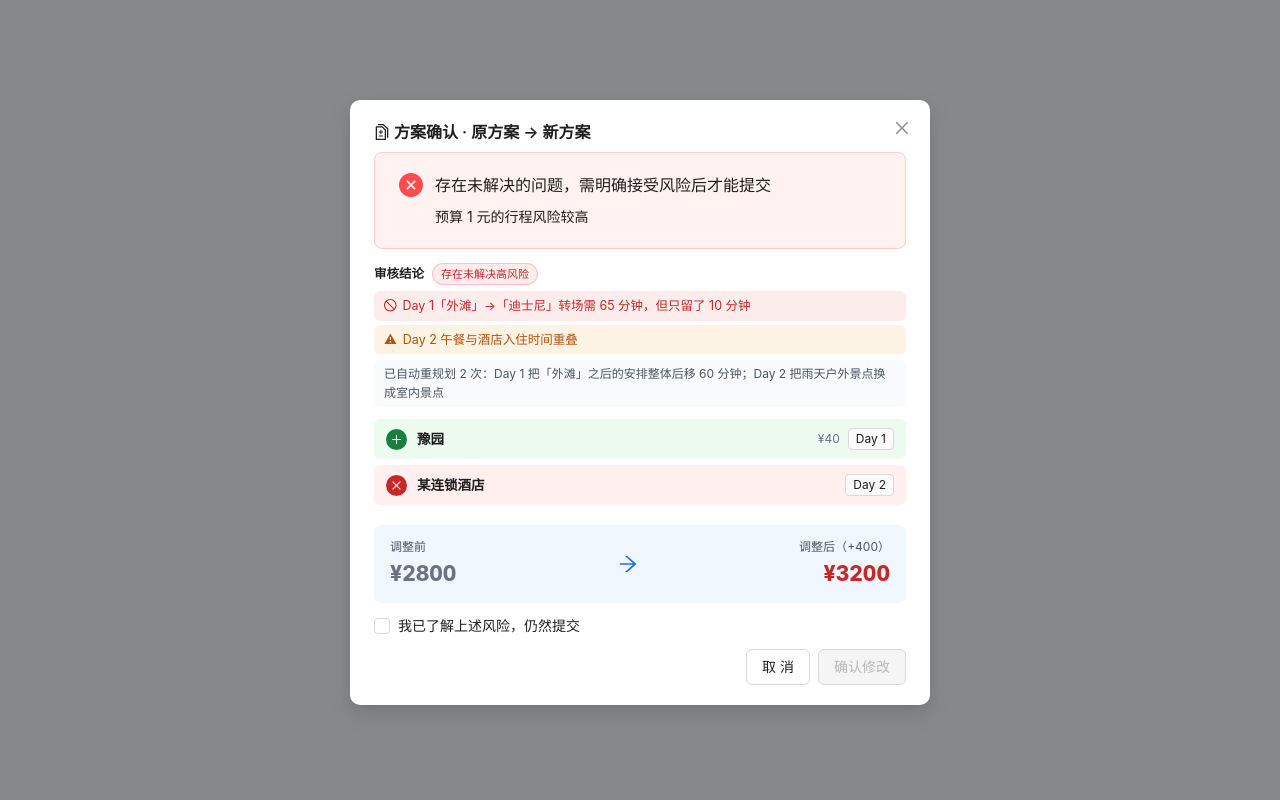
Test: PlanDiff · Batch 13 审核结论与风险接受 › requiresAcknowledgement：未勾选时确认按钮 disabled，勾选后才回调 onConfirm(true)
This screenshot has width=1280, height=800.
Later steps or results of the test are not shown.
Expected: the element with test id "plan-diff-dialog" is shown, [374, 152, 906, 637]
Click the button with test id "plan-diff-confirm". click: (862, 667)
box: [818, 649, 906, 685]
Click the checkbox with test id "plan-diff-ack". click: (481, 626)
box: [374, 615, 588, 637]
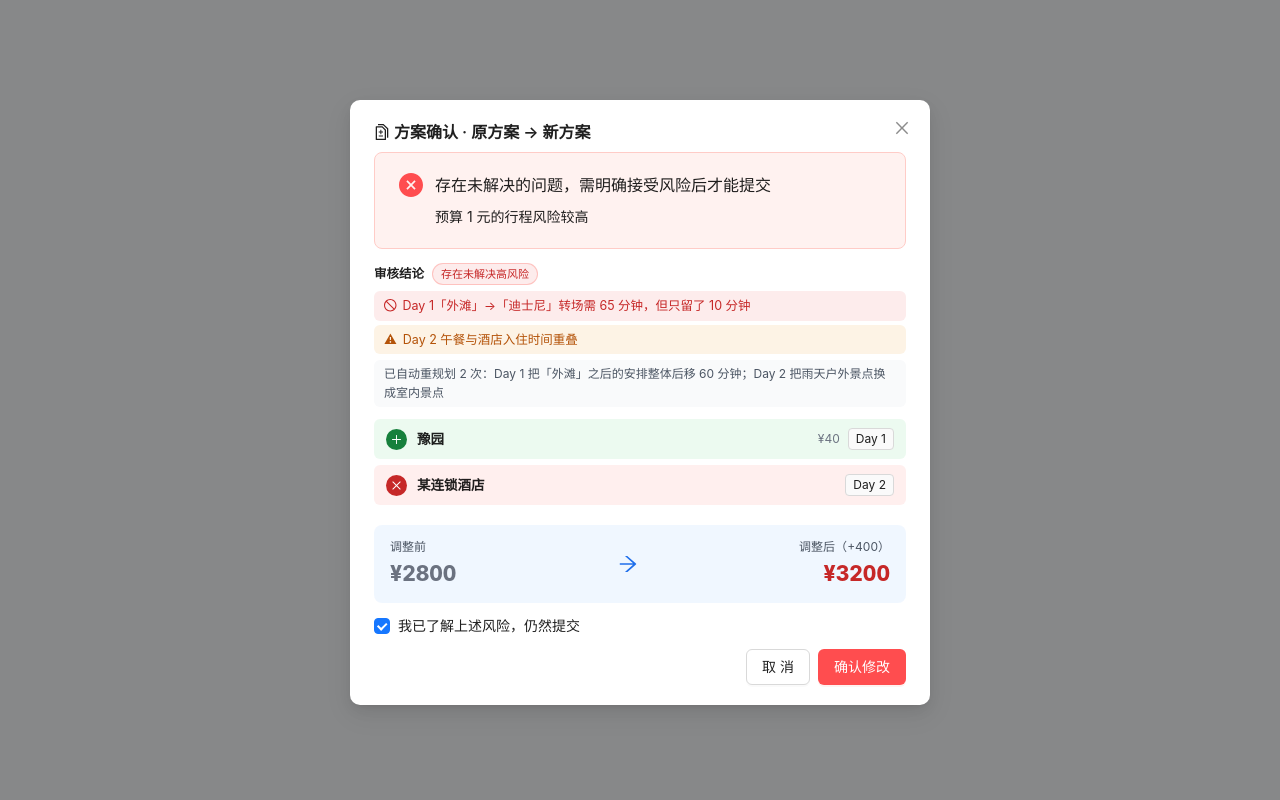
Result: the button with test id "plan-diff-confirm" is enabled at [818, 649, 906, 685]
